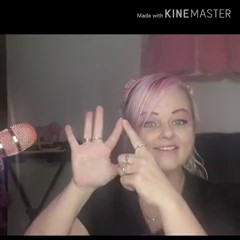A: (57, 100, 179, 210)
